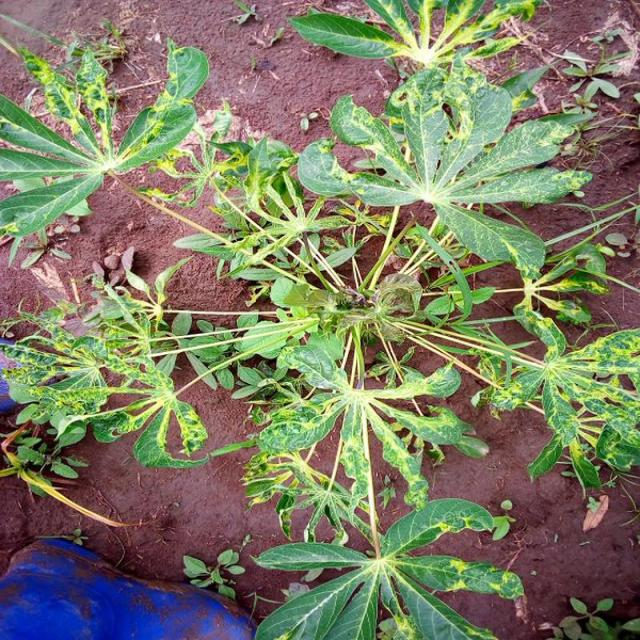cassava leaf: (0, 5, 638, 637), (296, 61, 594, 279)
